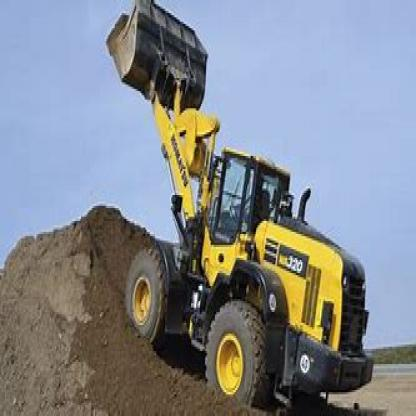bull_dozer/loader/grader: (100, 2, 382, 414)
